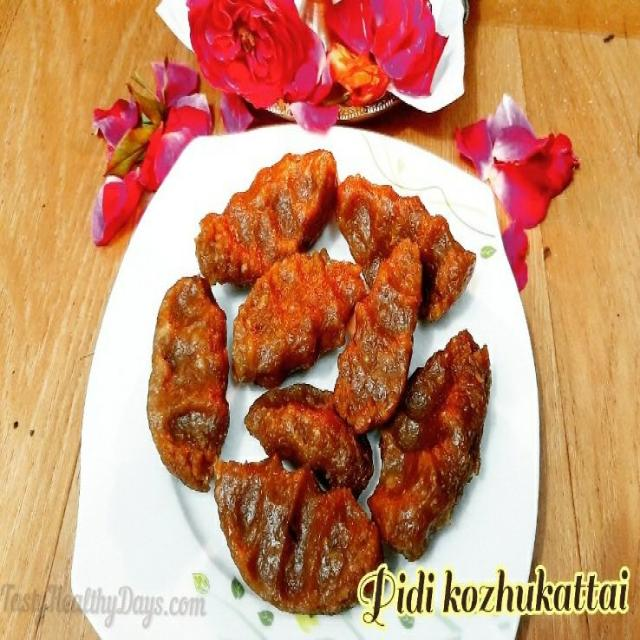pidi kolukattai: (143, 151, 513, 586)
